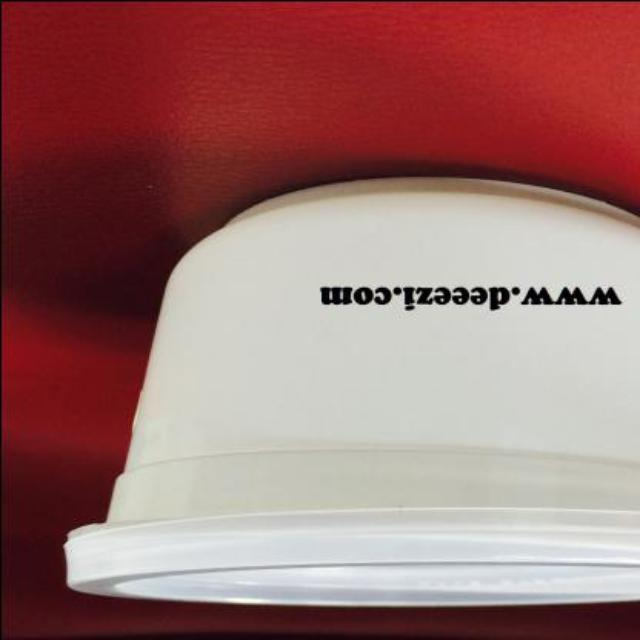plastic_box: (66, 179, 638, 603)
